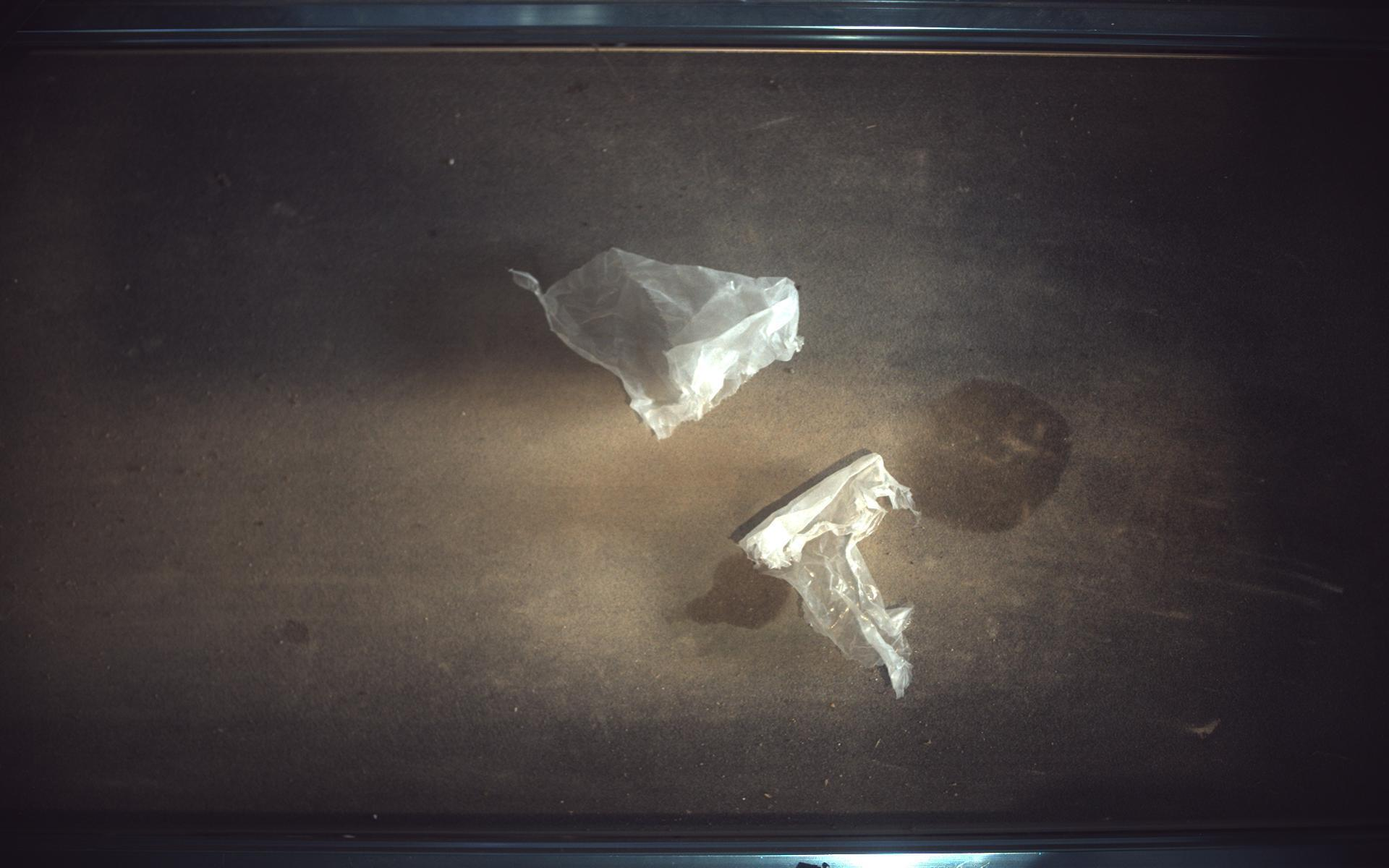general_w: (511, 247, 804, 439), (733, 451, 921, 698)
